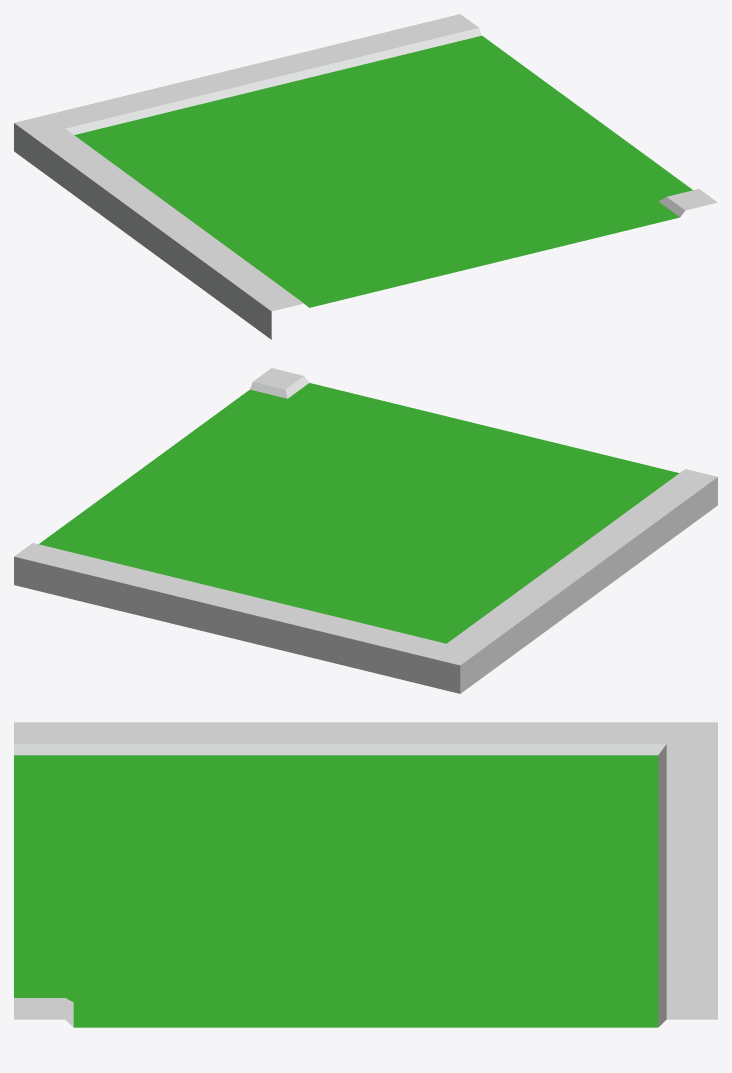
File: GrassBed_1_B_4.glb
The picture shows the model from 3 angles, top to bottom: view 1: azimuth 30°, elevation 25°; view 2: azimuth 150°, elevation 25°; view 3: azimuth 270°, elevation 25°; orthographic projection. The views are drawn at different scales.
Parts seen in each view (by area): view 1: GrassBed_1_B_4; view 2: GrassBed_1_B_4; view 3: GrassBed_1_B_4.
Part boxes in pixels (x1,y1,x2,y2): GrassBed_1_B_4: (14,14,717,339); GrassBed_1_B_4: (14,368,717,693); GrassBed_1_B_4: (14,722,717,1027).
Bounding box in the file's own units: 1.2 × 0.0732 × 1.2.
1 material, 1 textured.
